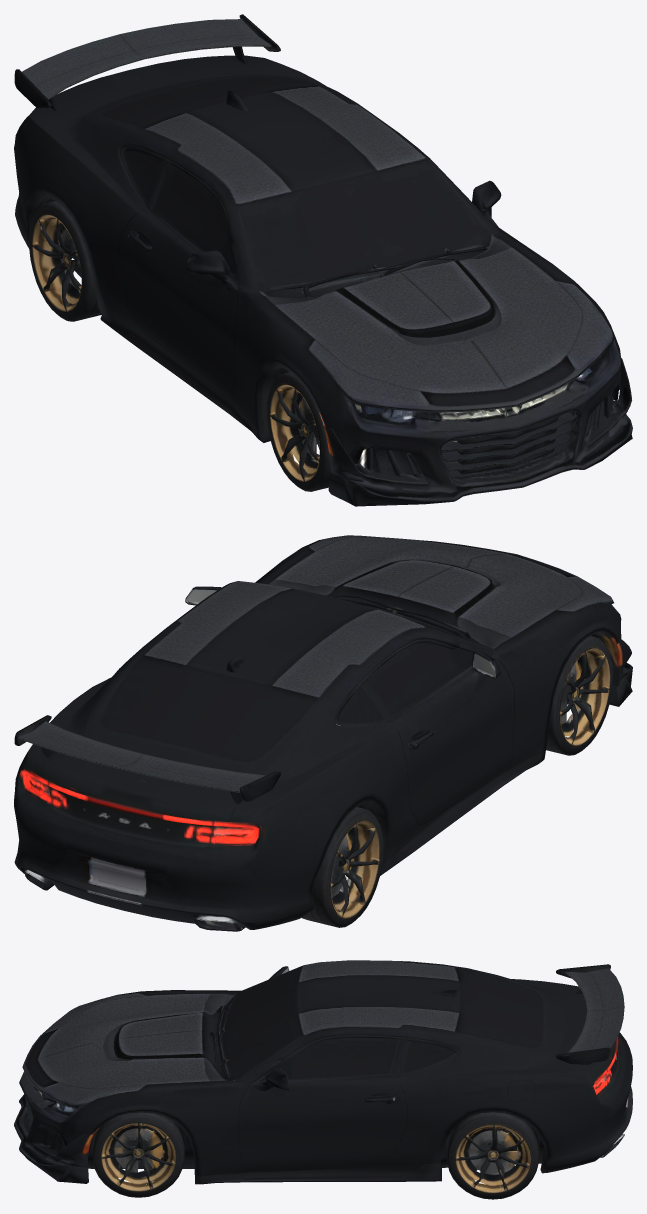
File: rob.glb
The picture shows the model from 3 angles, top to bottom: view 1: azimuth 30°, elevation 25°; view 2: azimuth 150°, elevation 25°; view 3: azimuth 270°, elevation 25°; orthographic projection. The views are drawn at different scales.
Parts seen in each view (by area): view 1: bf4dc507_f974_4acc_8885_6a9743dccd54; view 2: bf4dc507_f974_4acc_8885_6a9743dccd54; view 3: bf4dc507_f974_4acc_8885_6a9743dccd54.
Part boxes in pixels (<box>): bf4dc507_f974_4acc_8885_6a9743dccd54: <box>14,14,632,506</box>; bf4dc507_f974_4acc_8885_6a9743dccd54: <box>14,535,632,931</box>; bf4dc507_f974_4acc_8885_6a9743dccd54: <box>14,960,632,1199</box>.
Bounding box in the file's own units: 0.4399 × 0.2818 × 0.9995.
5 materials, 5 textured.
